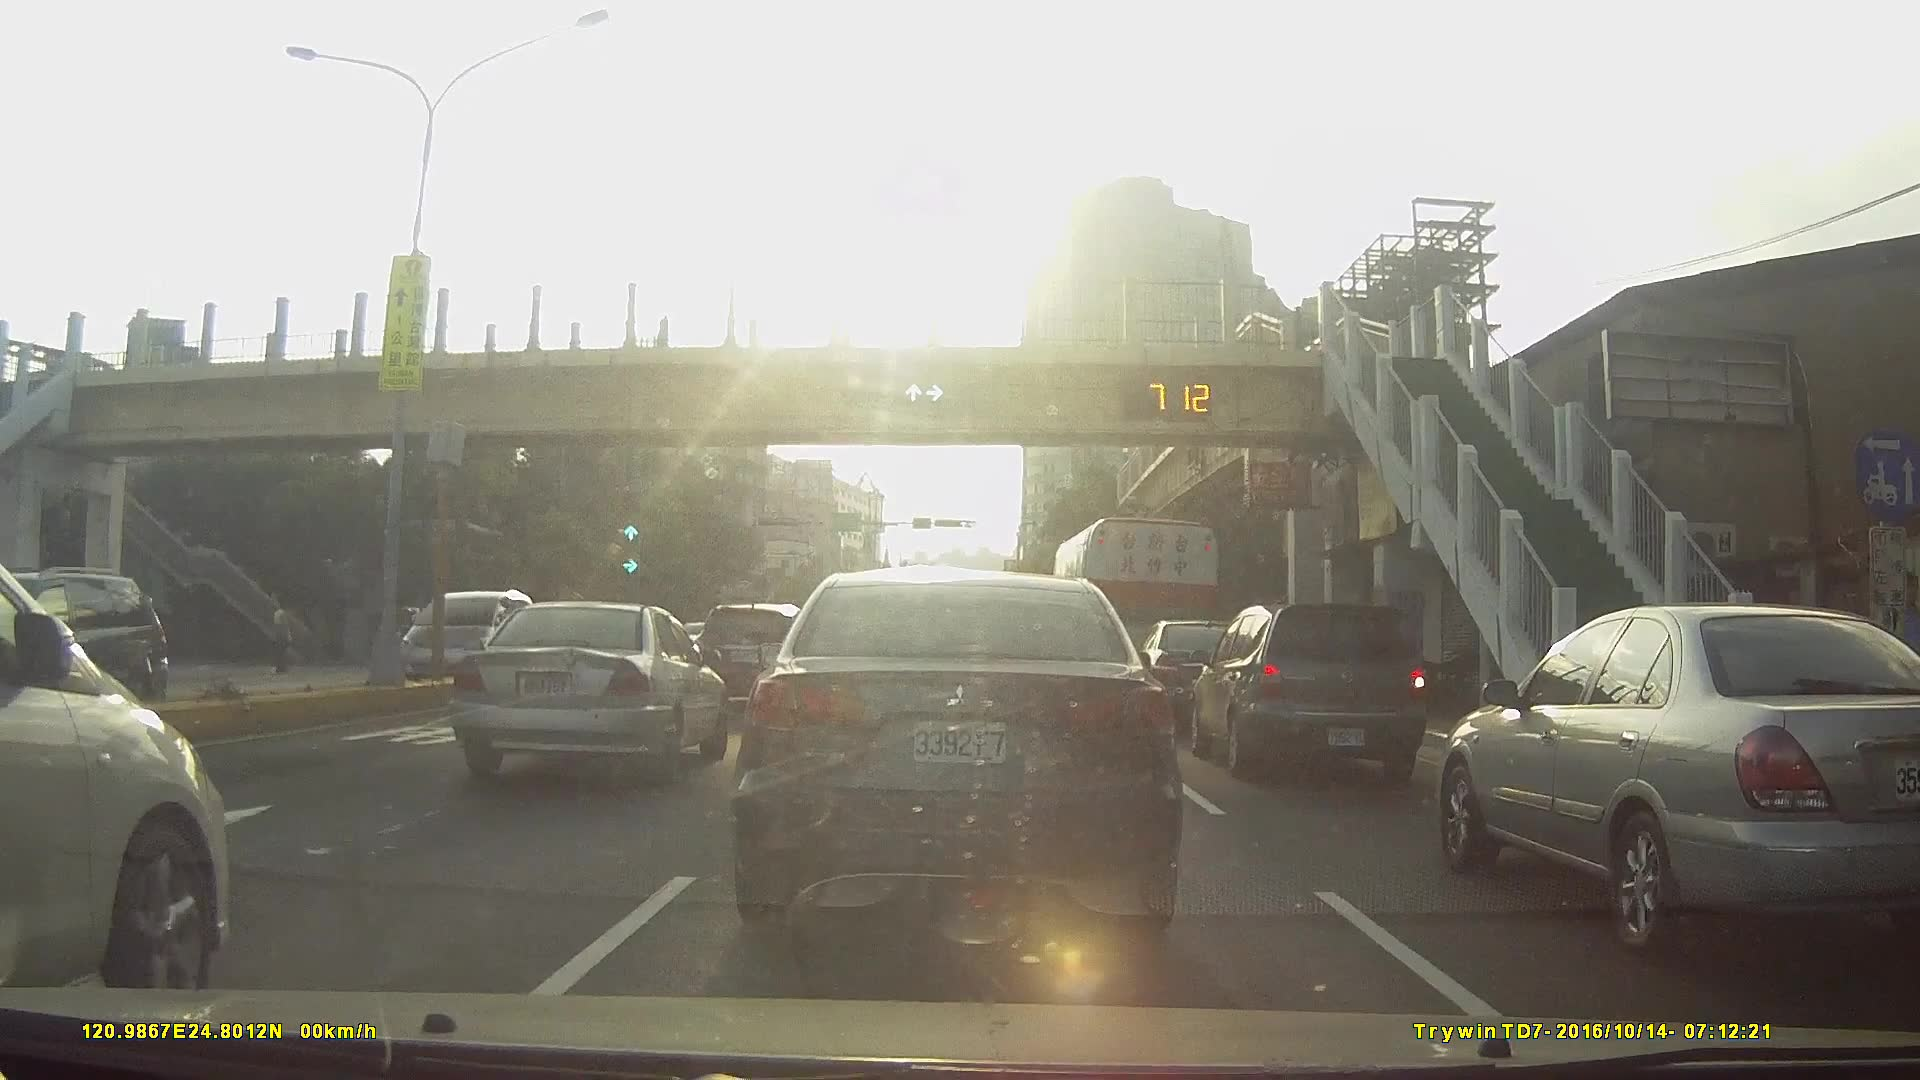vehicle: (1443, 603, 1920, 967), (729, 564, 1184, 938), (0, 529, 253, 1015), (458, 603, 735, 778), (1189, 603, 1443, 786), (1, 566, 200, 719), (378, 588, 547, 692), (1137, 618, 1273, 731), (696, 601, 814, 709)
